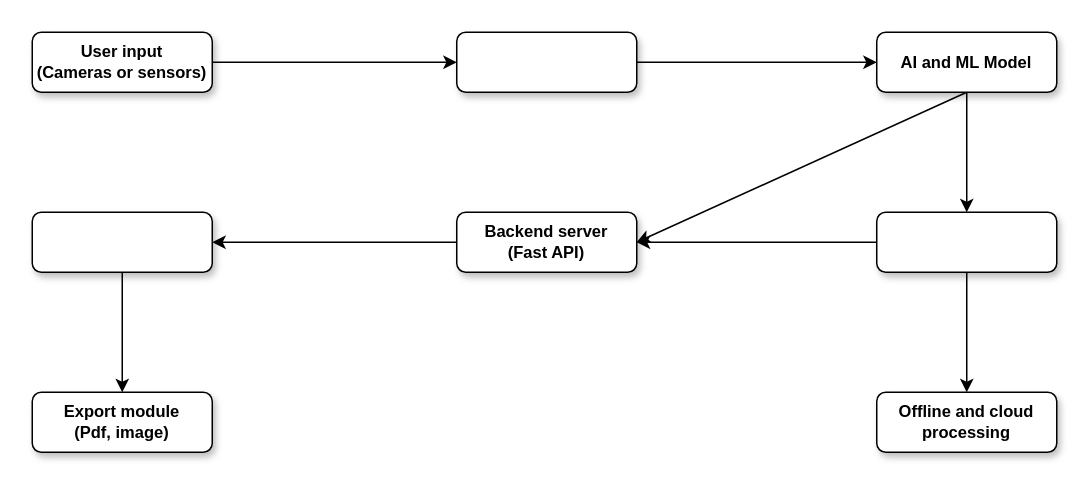
Some shapes in this 1092 by 489 pixel diagram are drawn without their labels. The centre of each missing label's shape, as x and y in pixels:
Application: the point at 123,244
AR core processing: the point at 547,64
Database (MongoDB): the point at 967,244
